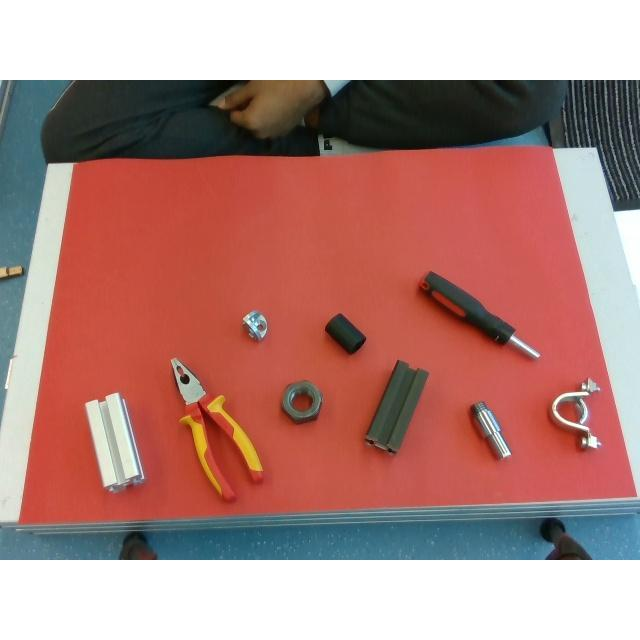Axis2: (471, 401, 511, 459)
Housing: (549, 379, 601, 448)
M30: (281, 381, 323, 424)
S40_40_B: (364, 360, 428, 452)
S40_40_G: (85, 392, 143, 492)
